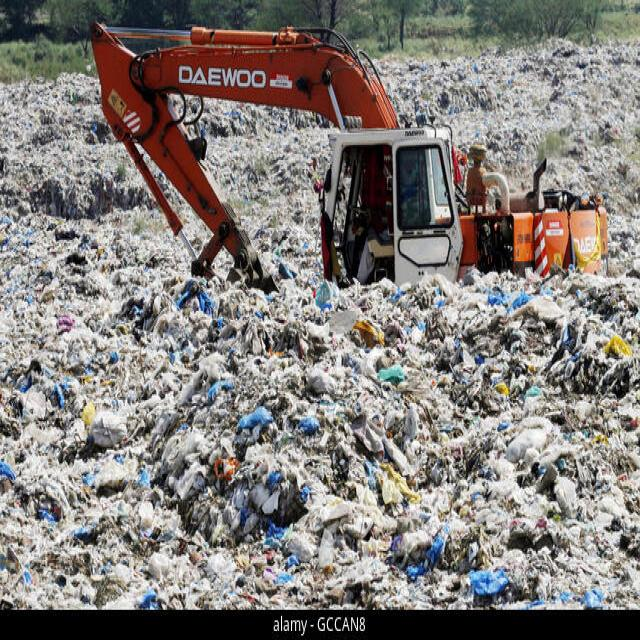trash: (31, 116, 332, 562), (345, 292, 623, 574), (450, 54, 621, 164)
